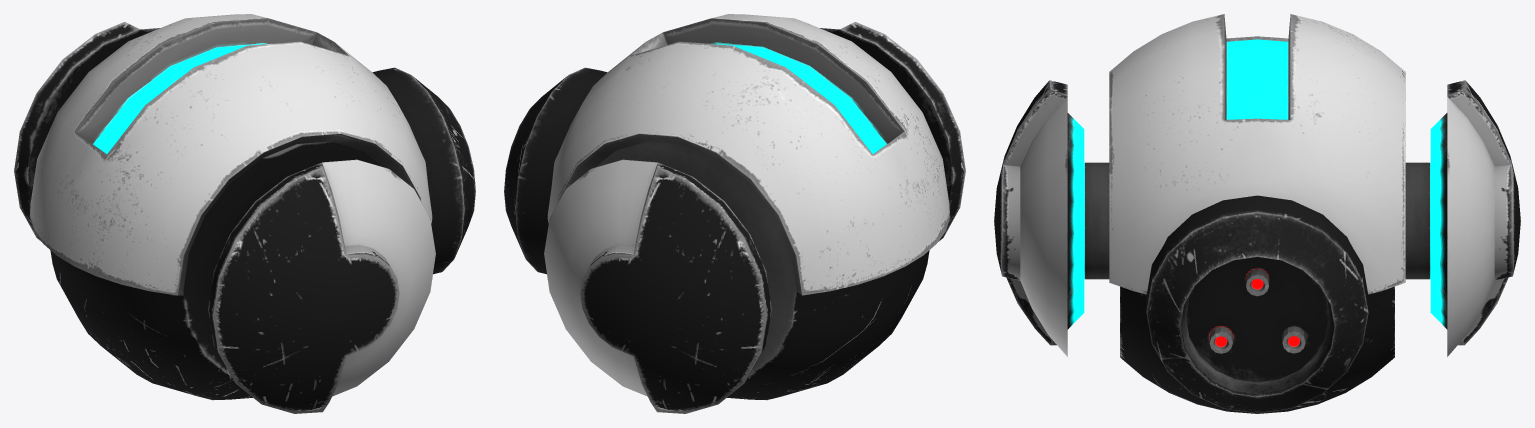
Rendered from drone.glb.
3 views of the same model, side by side, from view 1: azimuth 30°, elevation 25°; view 2: azimuth 150°, elevation 25°; view 3: azimuth 270°, elevation 25° (orthographic). The views are drawn at different scales.
Parts seen in each view (by area): view 1: Object_2; view 2: Object_2; view 3: Object_2.
Part boxes in pixels (box(x1,y1,x2,y2)): Object_2: box(14, 14, 475, 413); Object_2: box(504, 14, 965, 413); Object_2: box(994, 14, 1520, 413).
Bounding box in the file's own units: 831 × 726 × 949.
1 material, 1 textured.
